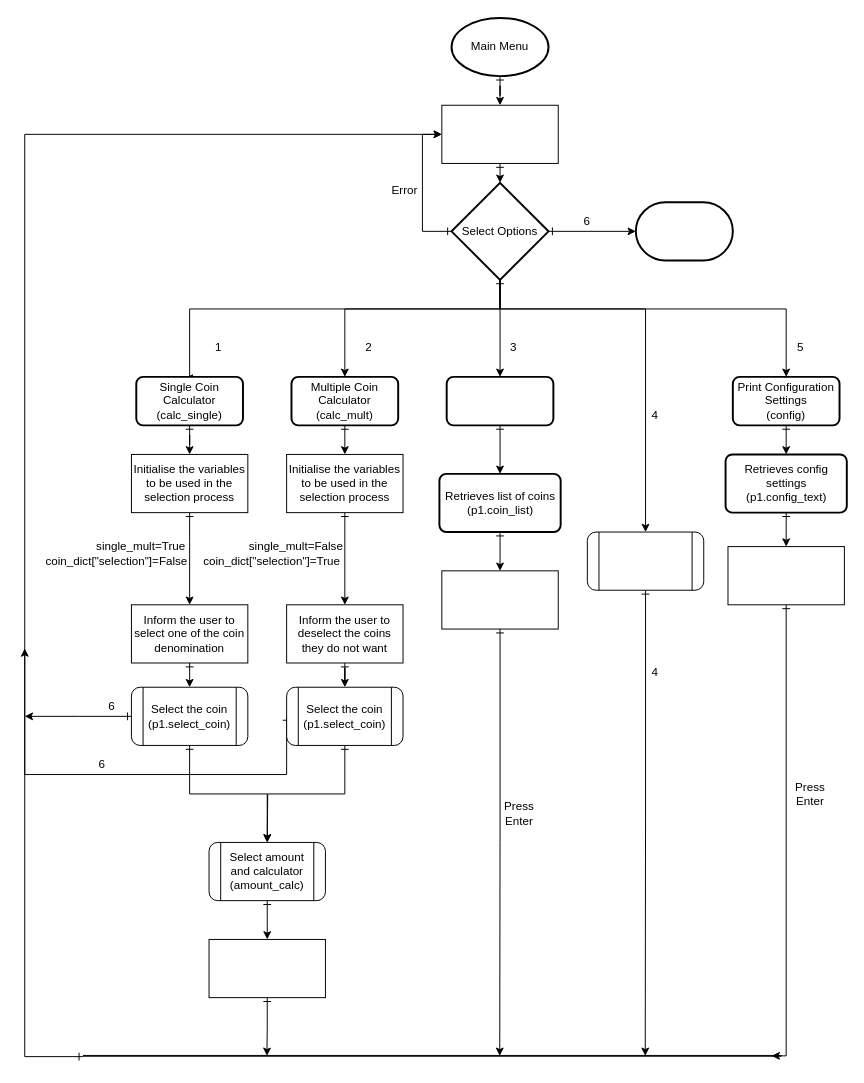
Image size: 864x1083. Some labels were removed from this diagram. The centre of each missing label's shape, as x and y in pixels:
Display the coins available: [499,599]
Display the current configuration settings: [785,575]
Display the number of coins and the remaining value: [266,968]
Display the options available: [499,133]
Exit the program: [683,231]
List of Coins (list_of_coins): [499,400]
Set Details (set_details): [645,560]
